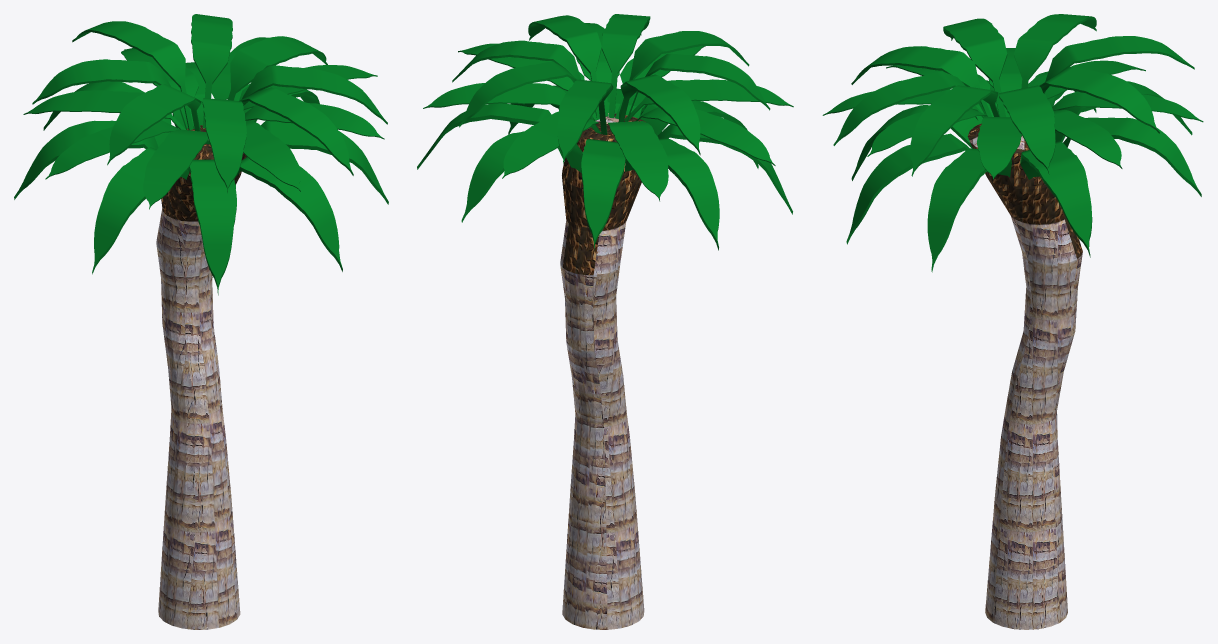
The model's file is tree.fbx.
The picture shows the model from 3 angles, left to right: view 1: azimuth 30°, elevation 25°; view 2: azimuth 150°, elevation 25°; view 3: azimuth 270°, elevation 25°; orthographic projection.
Visible parts, largest first — view 1: pCylinder1, polySurface50, polySurface10, polySurface32, polySurface20, polySurface29, polySurface30, polySurface24, polySurface23, polySurface33, polySurface22, polySurface18 (+7 smaller); view 2: pCylinder1, polySurface10, polySurface50, polySurface19, polySurface30, polySurface33, polySurface31, polySurface27, polySurface25, polySurface20, polySurface29, polySurface23 (+7 smaller); view 3: pCylinder1, polySurface50, polySurface10, polySurface25, polySurface26, polySurface18, polySurface28, polySurface21, polySurface24, polySurface31, polySurface22, polySurface32 (+7 smaller).
Boxes of the visible parts, <box> form: pCylinder1: <box>156,125,246,629</box>; polySurface50: <box>14,62,388,295</box>; polySurface10: <box>23,37,384,209</box>; polySurface32: <box>107,91,201,165</box>; polySurface20: <box>32,69,187,130</box>; polySurface29: <box>239,93,353,175</box>; polySurface30: <box>72,25,191,130</box>; polySurface24: <box>243,74,387,124</box>; polySurface23: <box>202,98,227,192</box>; polySurface33: <box>108,84,197,160</box>; polySurface22: <box>222,99,246,189</box>; polySurface18: <box>230,44,327,100</box>; pCylinder1: <box>560,113,645,629</box>; polySurface10: <box>423,23,793,201</box>; polySurface50: <box>417,85,792,250</box>; polySurface19: <box>618,78,700,155</box>; polySurface30: <box>563,81,613,163</box>; polySurface33: <box>626,60,770,121</box>; polySurface31: <box>557,79,604,161</box>; polySurface27: <box>459,68,593,129</box>; polySurface25: <box>528,18,599,119</box>; polySurface20: <box>621,74,700,151</box>; polySurface29: <box>611,15,650,117</box>; polySurface23: <box>631,37,749,80</box>; pCylinder1: <box>967,123,1082,629</box>; polySurface50: <box>846,71,1201,272</box>; polySurface10: <box>822,48,1203,179</box>; polySurface25: <box>911,87,1000,176</box>; polySurface26: <box>1039,75,1159,133</box>; polySurface18: <box>999,89,1049,174</box>; polySurface28: <box>833,78,986,145</box>; polySurface21: <box>1019,85,1055,171</box>; polySurface24: <box>910,85,996,173</box>; polySurface31: <box>1044,43,1194,93</box>; polySurface22: <box>851,54,989,116</box>; polySurface32: <box>943,22,1002,117</box>.
Bounding box in the file's own units: 13.03 × 21.2 × 13.16.
2 materials, 1 textured.
